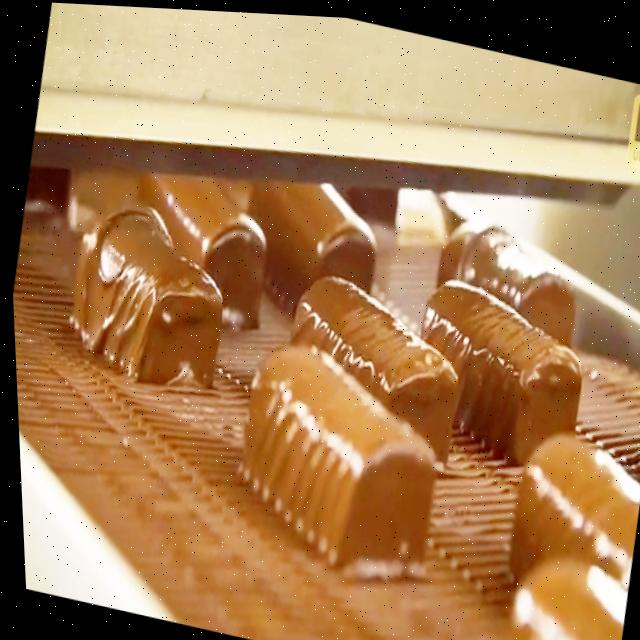Choco: (214, 323, 454, 582), (267, 256, 474, 461), (396, 263, 595, 470), (51, 185, 240, 397), (120, 147, 291, 339), (488, 407, 640, 601), (421, 192, 592, 352), (241, 171, 390, 332), (484, 528, 630, 640)
